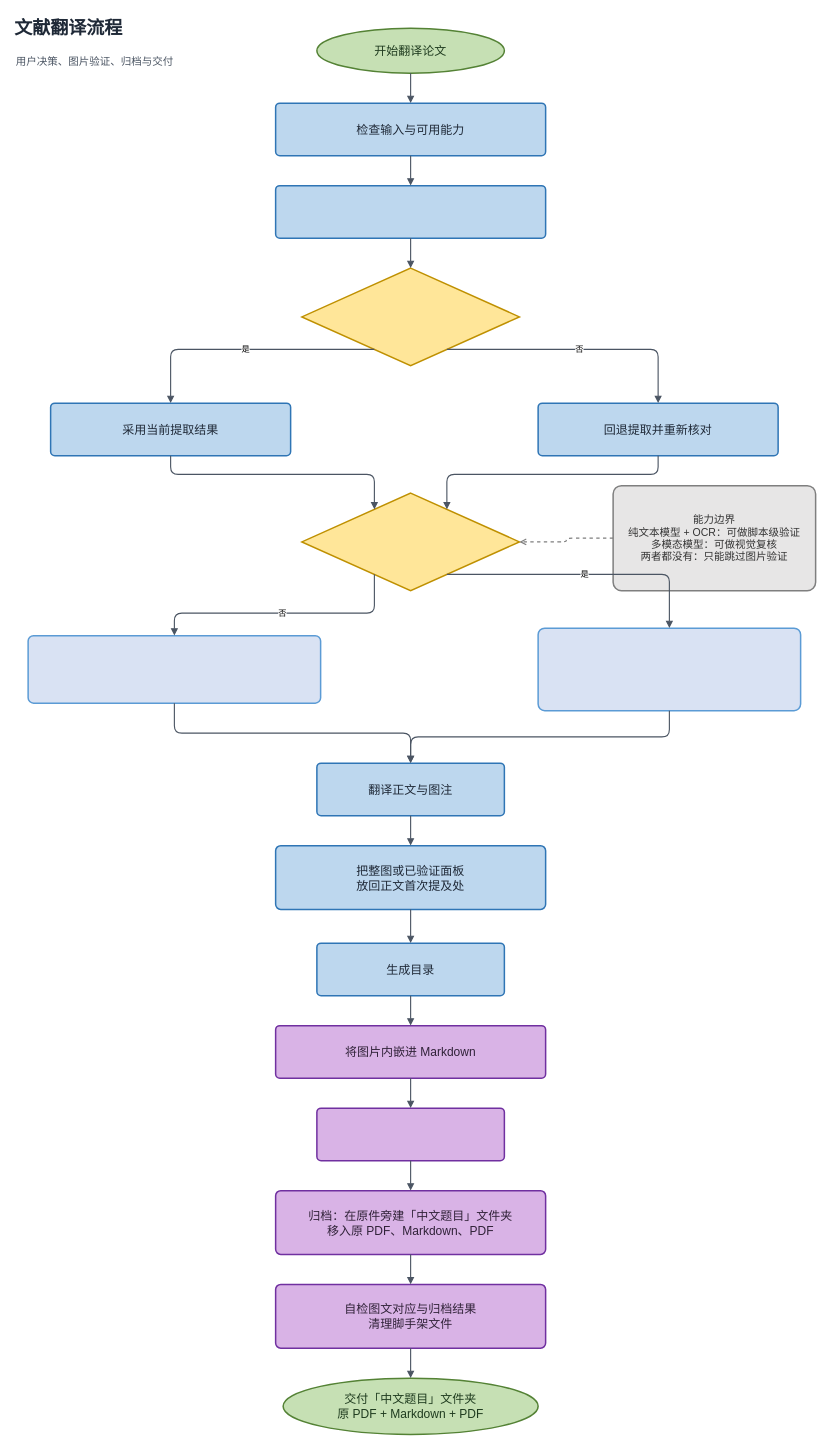
Some shapes in this 829 by 1448 pixel diagram are drawn without their labels. The shapes that lost their labels are listed below. From the top down, each one's box as (x1, y1, x2, y2) in pixels, then its label:
(274, 184, 546, 238): 提取正文、图和图注
(301, 267, 520, 366): Word 提取结果满意?
(301, 492, 520, 591): 是否交叉验证多面板图片?
(27, 634, 321, 704): 保留整张图片 标注未做图片语义验证
(537, 627, 801, 711): 切分多面板图片 执行 OCR / 规则验证 有视觉能力时再人工复核
(316, 1107, 505, 1161): 导出 PDF
